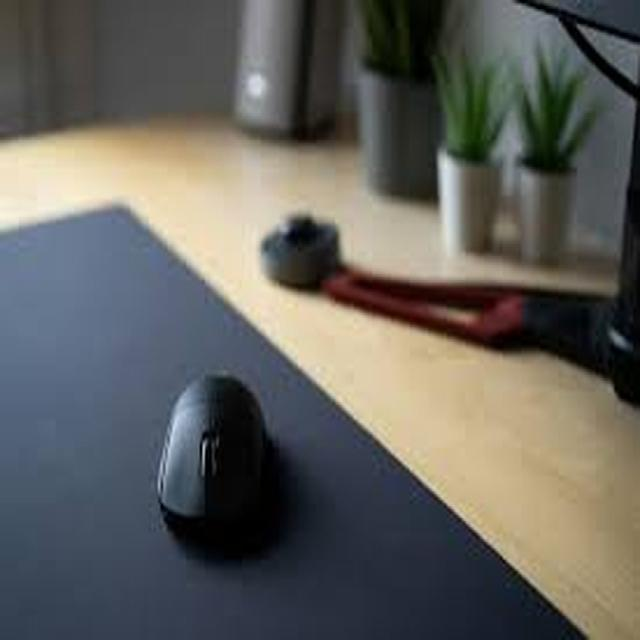mouse: (144, 362, 276, 564)
